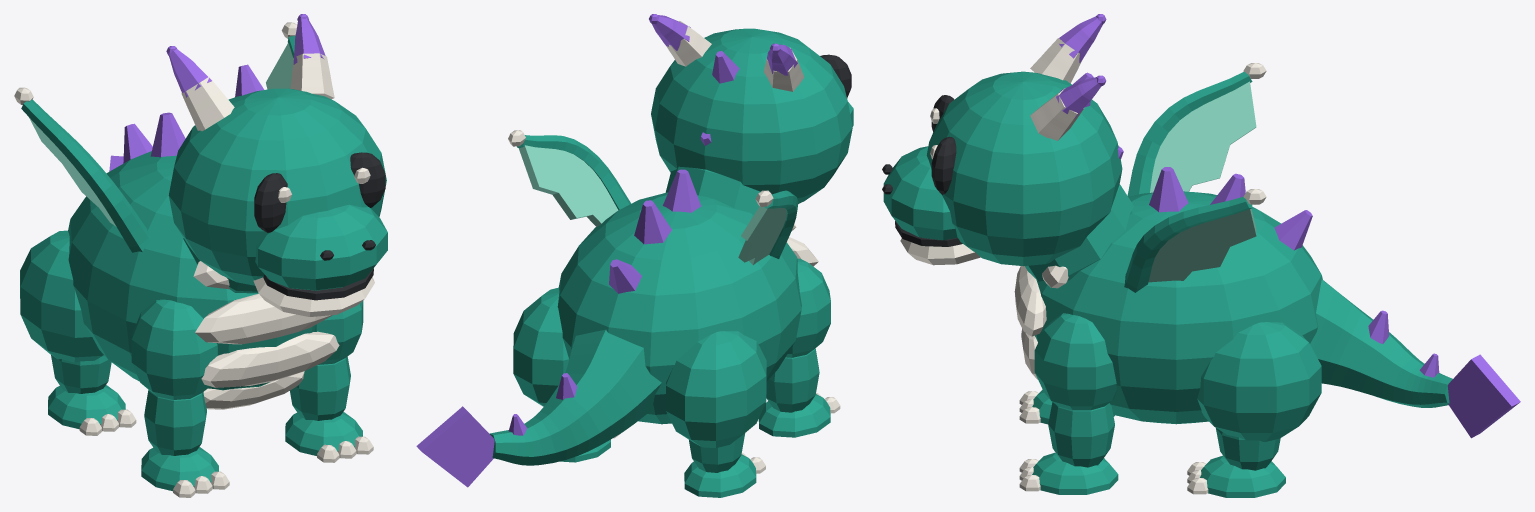
The model's file is baby-dragon-pet.glb.
3 renders of one model, left to right at view 1: azimuth 30°, elevation 25°; view 2: azimuth 150°, elevation 25°; view 3: azimuth 270°, elevation 25°, orthographic. The views are drawn at different scales.
Visible parts, largest first — view 1: BabyDragon; view 2: BabyDragon; view 3: BabyDragon.
Boxes of the visible parts, bbox=[...] form: BabyDragon: bbox=[14, 14, 387, 497]; BabyDragon: bbox=[416, 14, 853, 497]; BabyDragon: bbox=[882, 14, 1520, 497].
Bounding box in the file's own units: 2.15 × 3.04 × 4.39.
